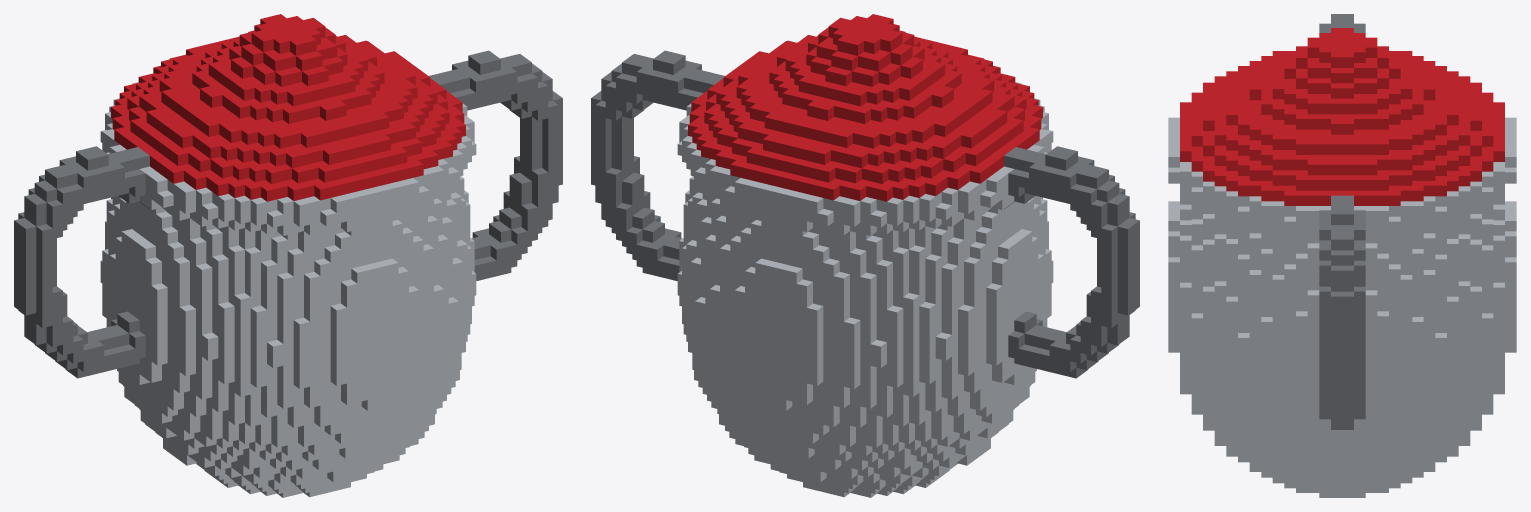
Rendered from CastleSpellJarVoxel.fbx.
3 renders of one model, left to right at view 1: azimuth 30°, elevation 25°; view 2: azimuth 150°, elevation 25°; view 3: azimuth 270°, elevation 25°, orthographic. The views are drawn at different scales.
Parts seen in each view (by area): view 1: Jar block surface; view 2: Jar block surface; view 3: Jar block surface.
Part boxes in pixels (x1=…): Jar block surface: x1=14, y1=14, x2=562, y2=497; Jar block surface: x1=591, y1=14, x2=1139, y2=497; Jar block surface: x1=1168, y1=14, x2=1516, y2=497.
Bounding box in the file's own units: 130 × 100 × 75.
